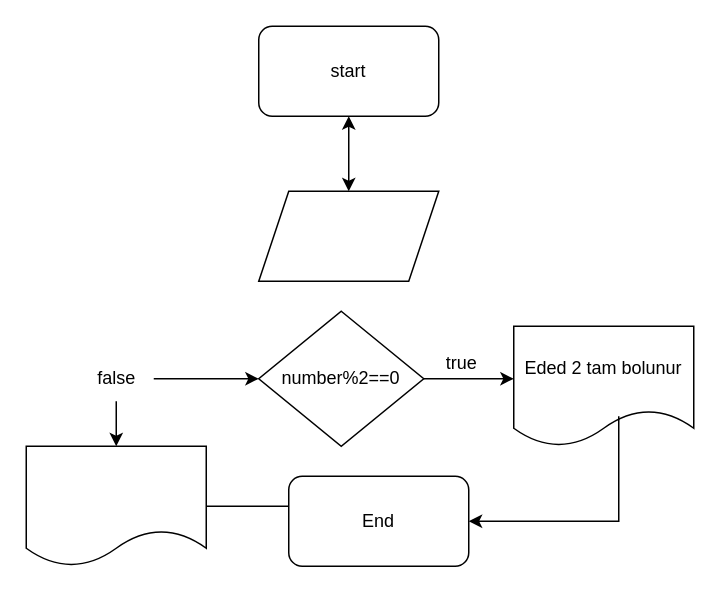
Some shapes in this 720 by 593 pixel diagram are drawn without their labels. The centre of each missing label's shape, as x and y in pixels:
"number" goes at (x=348, y=235).
"Tam bolunur" goes at (x=115, y=505).
